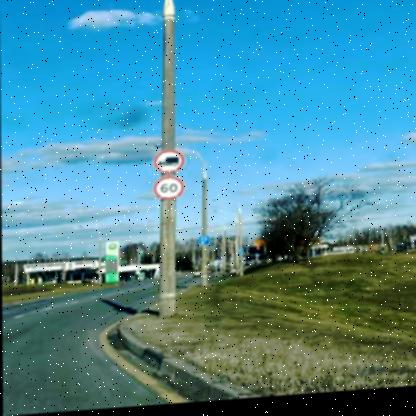Speed Limit -60-: (155, 175, 184, 205)
